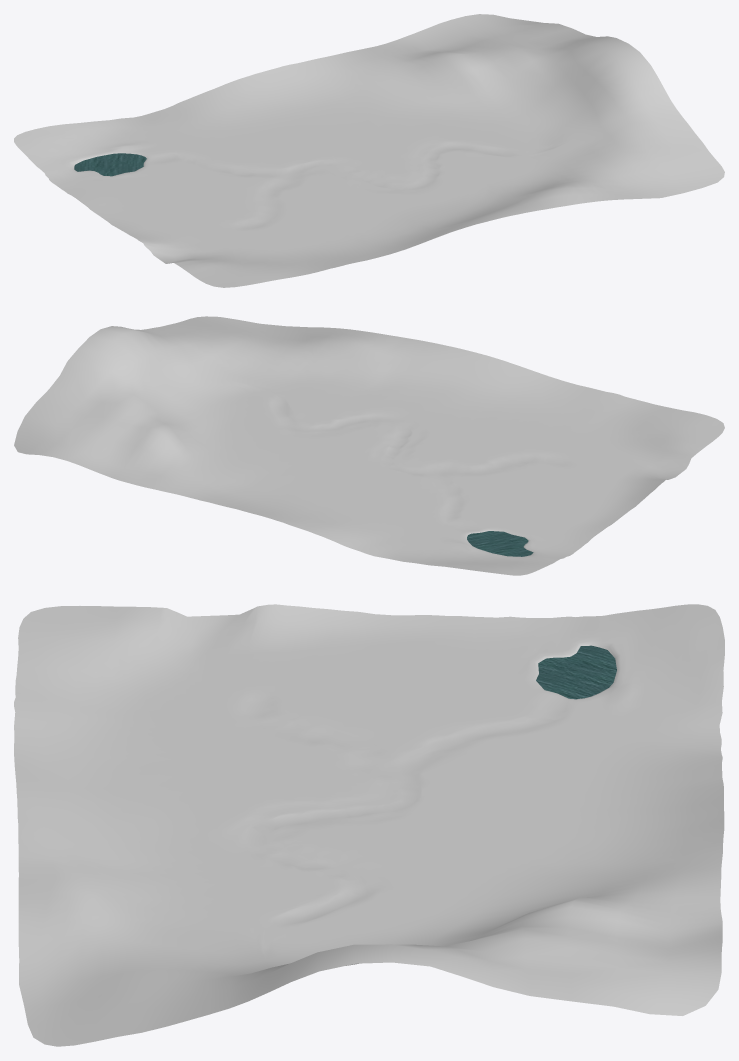
The model's file is SM_GROND.fbx.
3 renders of one model, top to bottom at view 1: azimuth 30°, elevation 25°; view 2: azimuth 150°, elevation 25°; view 3: azimuth 270°, elevation 25°, orthographic. The views are drawn at different scales.
Visible parts, largest first — view 1: Plane, Plane.002; view 2: Plane, Plane.002; view 3: Plane, Plane.002.
Boxes of the visible parts, bbox=[...] form: Plane: bbox=[14, 14, 724, 287]; Plane.002: bbox=[74, 153, 146, 176]; Plane: bbox=[14, 316, 724, 575]; Plane.002: bbox=[467, 531, 533, 556]; Plane: bbox=[14, 604, 724, 1046]; Plane.002: bbox=[536, 645, 616, 699].
Bounding box in the file's own units: 11118 × 1109 × 7836.
